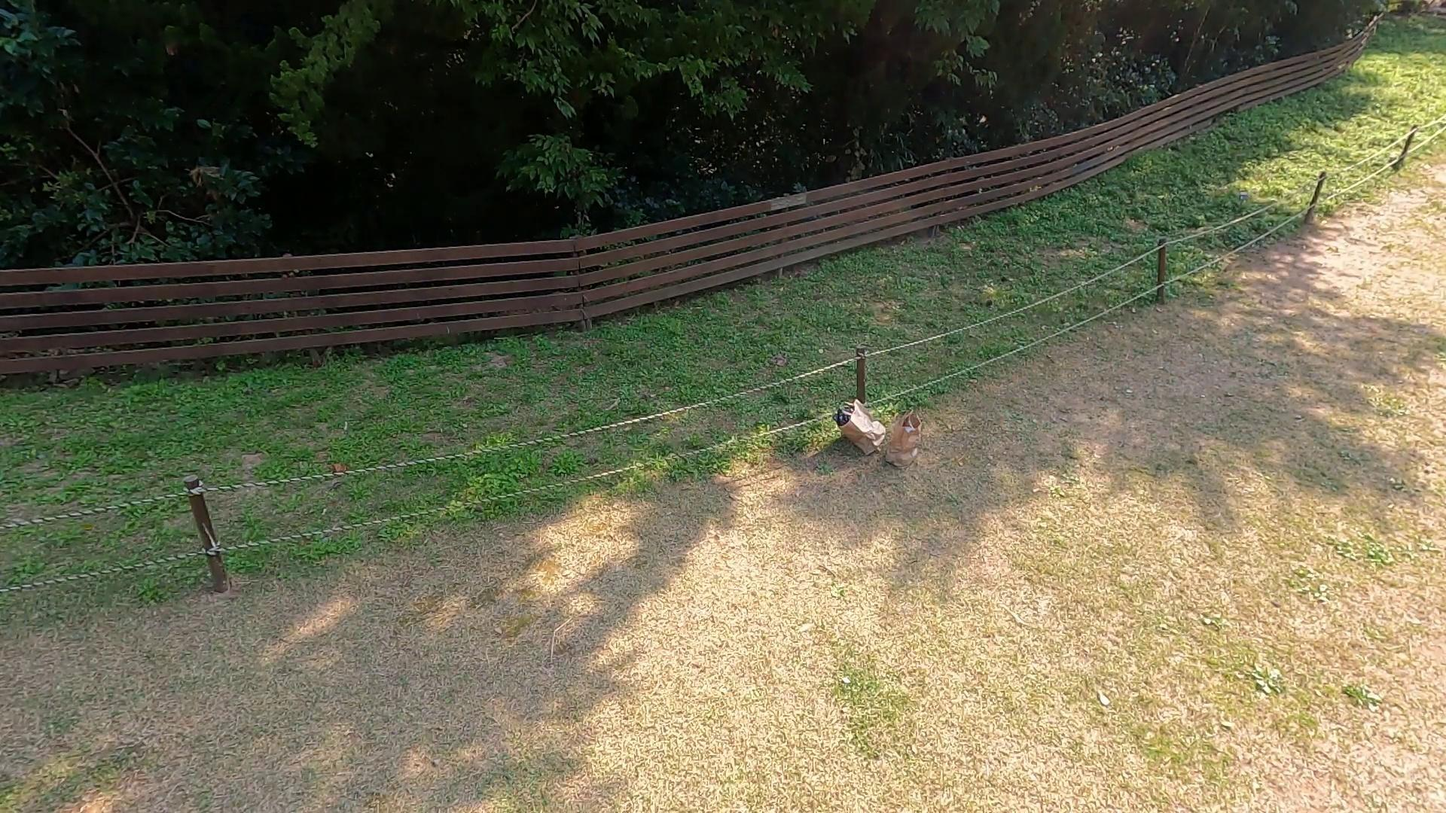trash: (835, 396, 889, 455), (879, 408, 923, 471)
